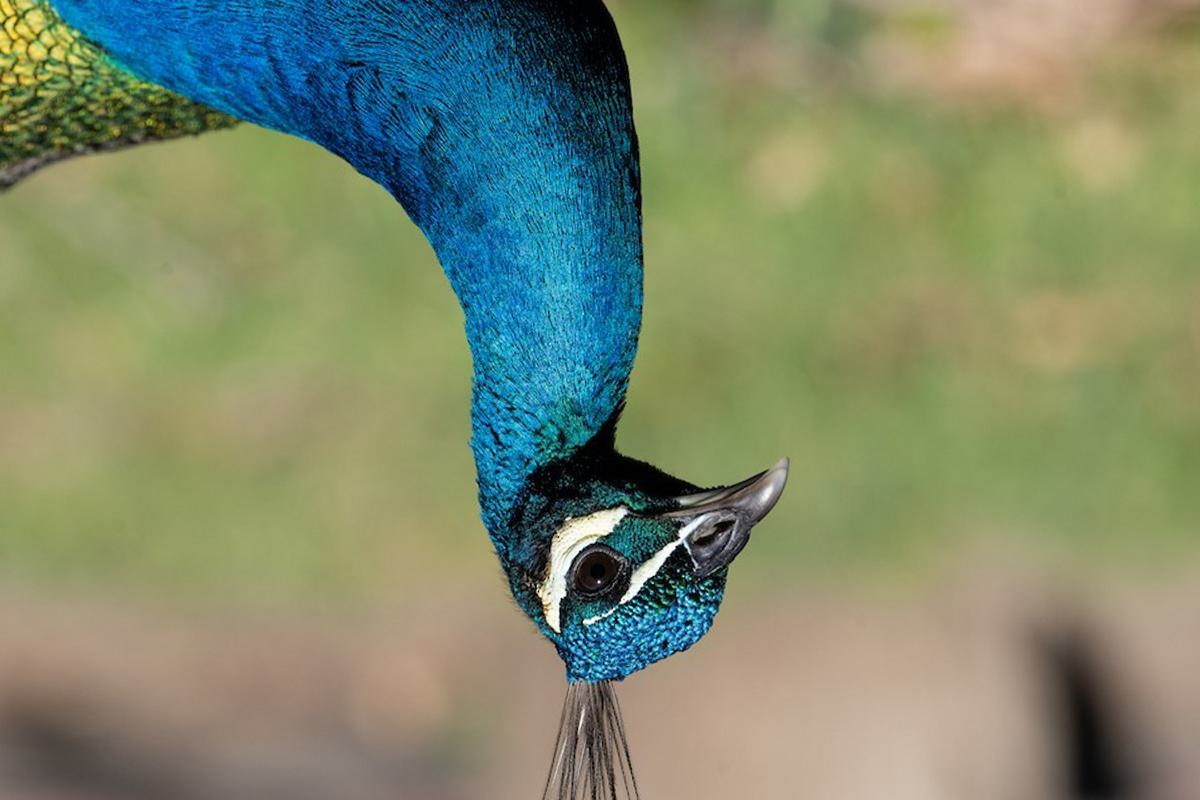peacock: (9, 1, 789, 731)
